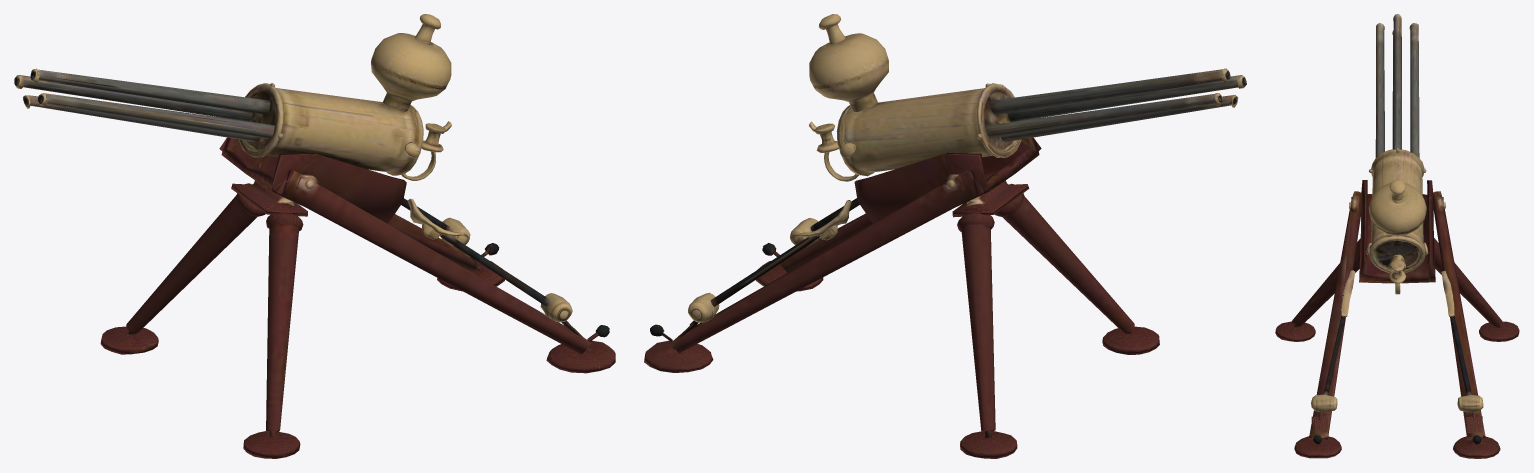
Rendered from gatling.glb.
3 views of the same model, side by side, from view 1: azimuth 30°, elevation 25°; view 2: azimuth 150°, elevation 25°; view 3: azimuth 270°, elevation 25° (orthographic). The views are drawn at different scales.
Size of the model in its own units: 1 by 0.6701 by 0.5611.
Materials: 1 (1 with a texture image).
